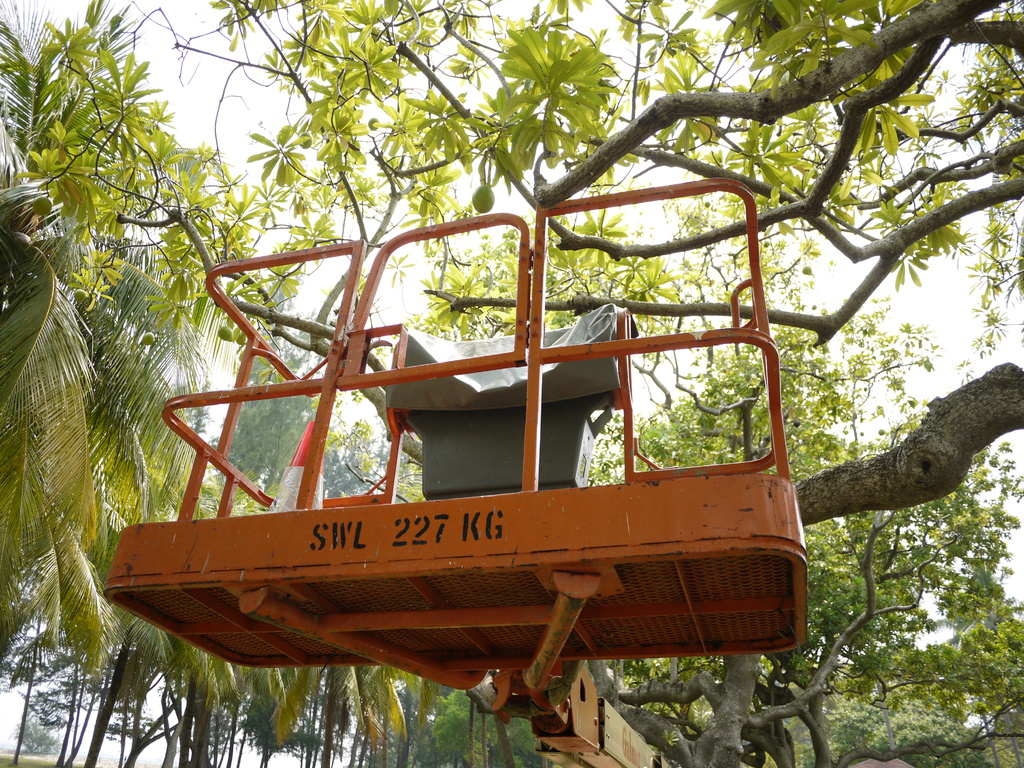Tree: (0, 0, 1024, 766), (15, 1, 1024, 349)
